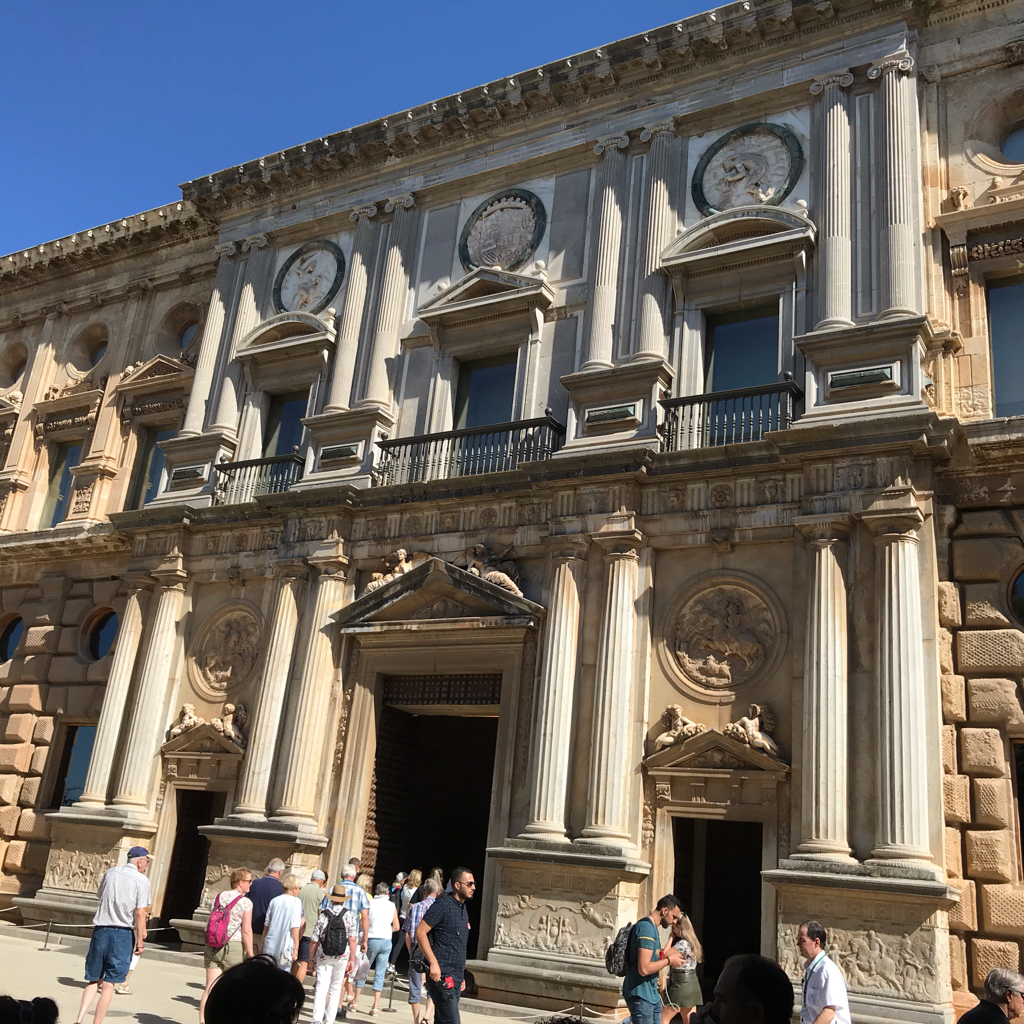fronton: (326, 553, 551, 631), (639, 724, 787, 781), (411, 262, 547, 321), (118, 355, 194, 396), (160, 720, 244, 756)
fronton-curvo: (654, 203, 818, 265), (236, 305, 337, 357)
ojo-de-buey: (73, 604, 120, 662)
vano-adintelado: (338, 639, 525, 956), (646, 794, 779, 971), (674, 269, 800, 448), (427, 326, 532, 478), (152, 776, 238, 917), (234, 367, 322, 499)
